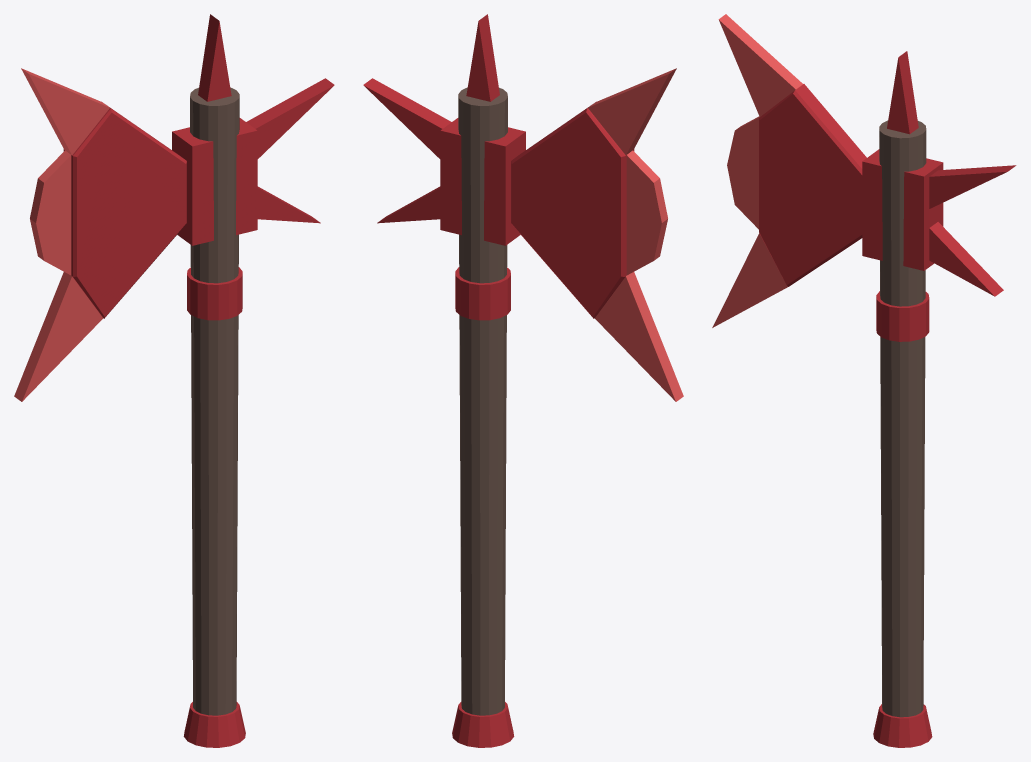
Rendered from hatchet.glb.
3 renders of one model, left to right at view 1: azimuth 30°, elevation 25°; view 2: azimuth 150°, elevation 25°; view 3: azimuth 330°, elevation 25°, orthographic. The views are drawn at different scales.
Visible parts, largest first — view 1: hatchet; view 2: hatchet; view 3: hatchet.
Part boxes in pixels (left/top/right/bottom): hatchet: left=14, top=14, right=334, bottom=747; hatchet: left=363, top=14, right=683, bottom=747; hatchet: left=712, top=14, right=1016, bottom=747.
Bounding box in the file's own units: 0.23 × 0.505 × 0.04.
